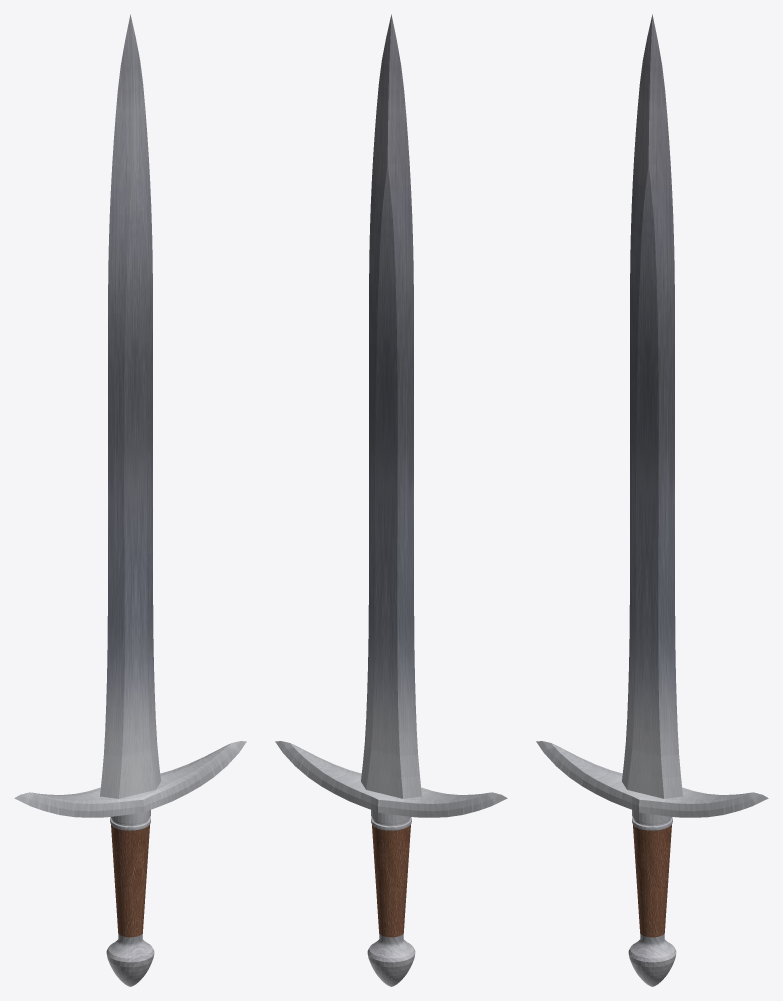
Rendered from Sword.obj.
3 renders of one model, left to right at view 1: azimuth 30°, elevation 25°; view 2: azimuth 150°, elevation 25°; view 3: azimuth 330°, elevation 25°, orthographic.
Visible parts, largest first — view 1: Cylinder; view 2: Cylinder; view 3: Cylinder.
Part boxes in pixels (x1=…): Cylinder: x1=14, y1=14, x2=246, y2=986; Cylinder: x1=275, y1=14, x2=507, y2=986; Cylinder: x1=536, y1=14, x2=768, y2=986.
Bounding box in the file's own units: 4.23 × 16.89 × 0.8498.
